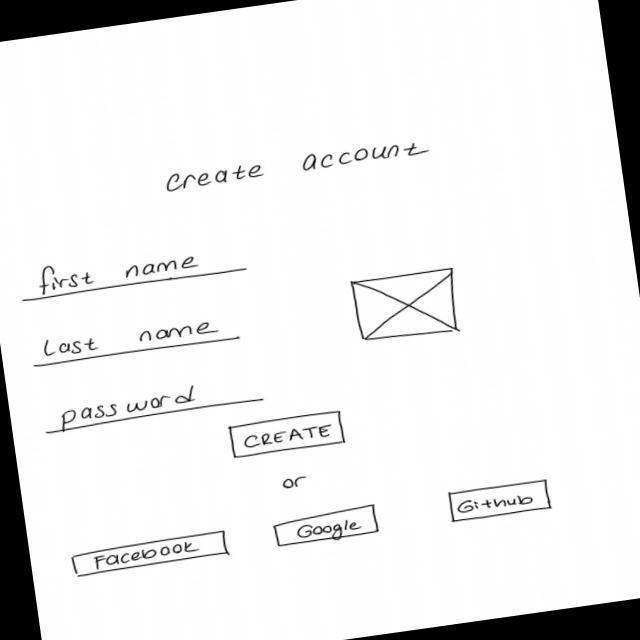button: (70, 528, 233, 581), (227, 409, 348, 463), (273, 502, 384, 552), (447, 477, 555, 527)
image: (348, 266, 464, 348), (282, 475, 313, 493)
input: (18, 237, 252, 306), (40, 374, 271, 436), (27, 309, 249, 372)
label: (161, 134, 436, 197)
